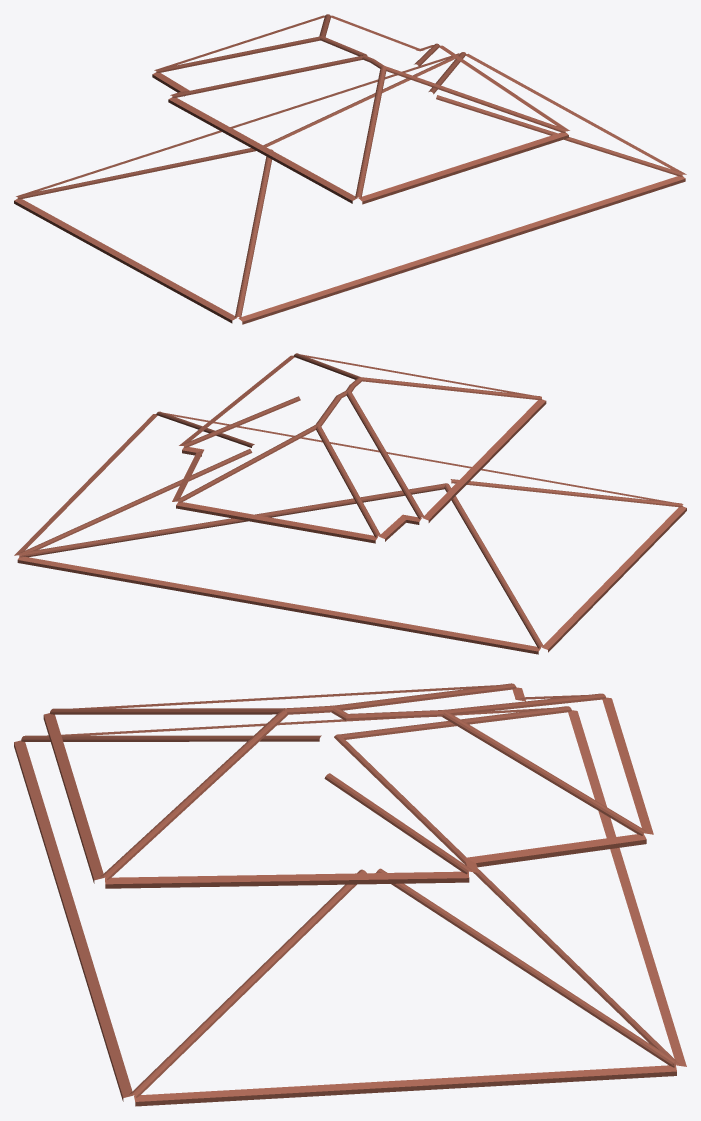
The picture shows the model from 3 angles, top to bottom: view 1: azimuth 30°, elevation 25°; view 2: azimuth 150°, elevation 25°; view 3: azimuth 270°, elevation 25°; orthographic projection. The views are drawn at different scales.
Parts seen in each view (by area): view 1: detail; view 2: detail; view 3: detail.
Part boxes in pixels (x1,y1,x2,y2): detail: (14, 14, 686, 324); detail: (14, 353, 686, 654); detail: (14, 683, 686, 1106).
Size of the model in its own units: 28.36 by 7.14 by 20.43.
